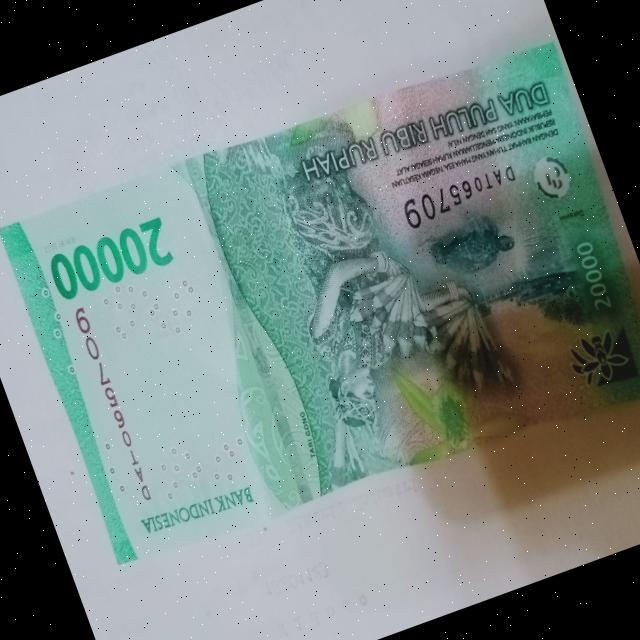20K: (0, 17, 640, 601)
